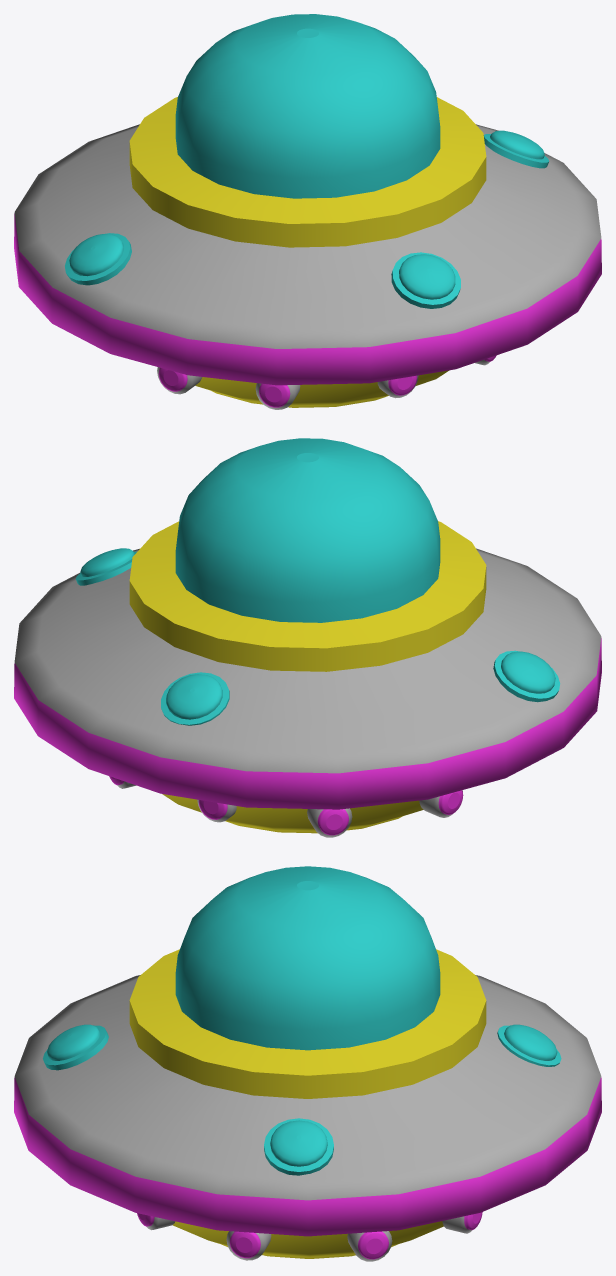
The model's file is ufo.fbx.
3 renders of one model, top to bottom at view 1: azimuth 30°, elevation 25°; view 2: azimuth 150°, elevation 25°; view 3: azimuth 270°, elevation 25°, orthographic.
Parts seen in each view (by area): view 1: polySurface35; view 2: polySurface35; view 3: polySurface35.
Boxes of the visible parts, <box> form: polySurface35: <box>14,14,601,409</box>; polySurface35: <box>14,438,601,837</box>; polySurface35: <box>14,866,601,1261</box>.
Size of the model in its own units: 211 by 126 by 211.
